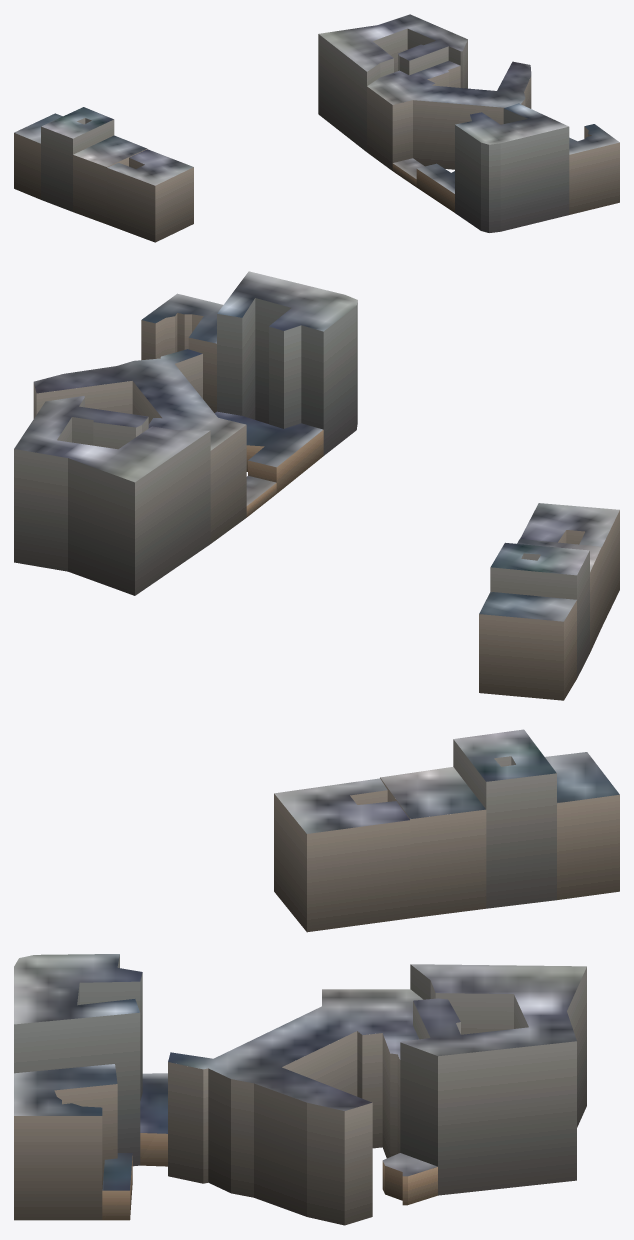
3 views of the same model, one above another, from view 1: azimuth 30°, elevation 25°; view 2: azimuth 150°, elevation 25°; view 3: azimuth 270°, elevation 25° (orthographic). The views are drawn at different scales.
Bounding box in the file's own units: 141 × 26.61 × 95.59.
Materials: 2 (2 with a texture image).
